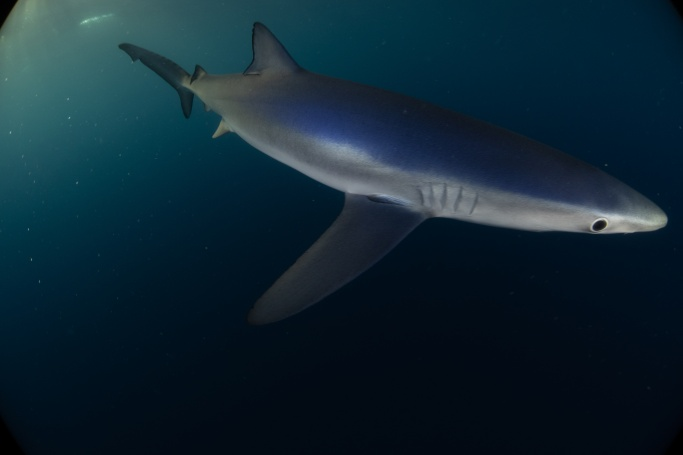Azul: (100, 12, 667, 357)
